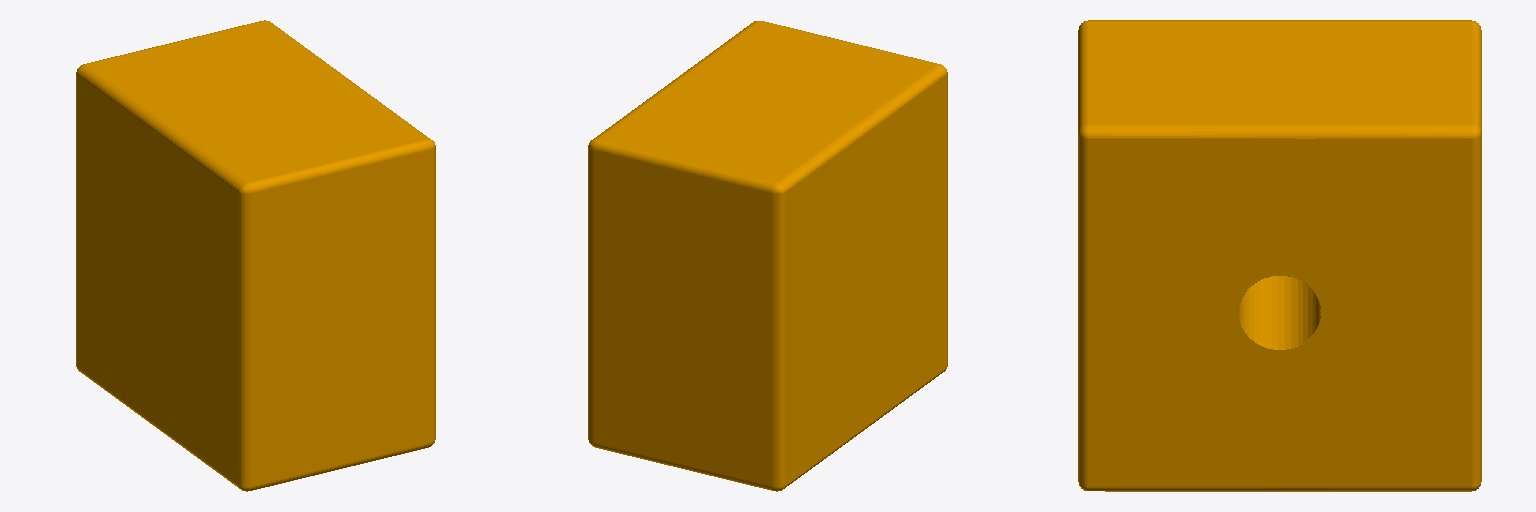
robot.urdf — peg_block.urdf:
<?xml version="1.0" ?>
<robot name="peg_block.urdf">
	<link concave="yes" name="baseLink">
		<inertial>
			<origin rpy="0 0 0" xyz="0 0 0"/>
				<mass value="0"/>
				<inertia ixx="0" ixy="0" ixz="0" iyy="0" iyz="0" izz="0"/>
		</inertial>
		<visual>
			<origin rpy="0 0 0" xyz="0 0 0"/>
			<geometry>
				<mesh filename="peg_block_small.obj" scale="2 1.5 1.5"/>
			</geometry>
		</visual>
		<collision concave="yes">
			<origin rpy="0 0 0" xyz="0 0 0"/>
			<geometry>
				<mesh filename="peg_block_small.obj" scale="2 1.5 1.5"/>
			</geometry>
		</collision>
	</link>
</robot>

--- Facts derived from the render (not from the file) ---
3 views of the same robot in one strip: view 1: azimuth 30°, elevation 25°; view 2: azimuth 150°, elevation 25°; view 3: azimuth 270°, elevation 25° (orthographic).
Robot: peg_block.urdf — 1 links, 0 joints (none); root link baseLink; default pose: all joints at 0.
Visible links, largest first — view 1: baseLink; view 2: baseLink; view 3: baseLink.
Link boxes in pixels (x1,y1,x2,y2): baseLink: [76, 20, 435, 491]; baseLink: [588, 21, 947, 491]; baseLink: [1078, 20, 1481, 491].
Bounding box of the posed robot: 0.08 × 0.12 × 0.12 m (x, y, z).
Meshes: 1 distinct files referenced, 1 mesh visuals loaded (1 OBJ).